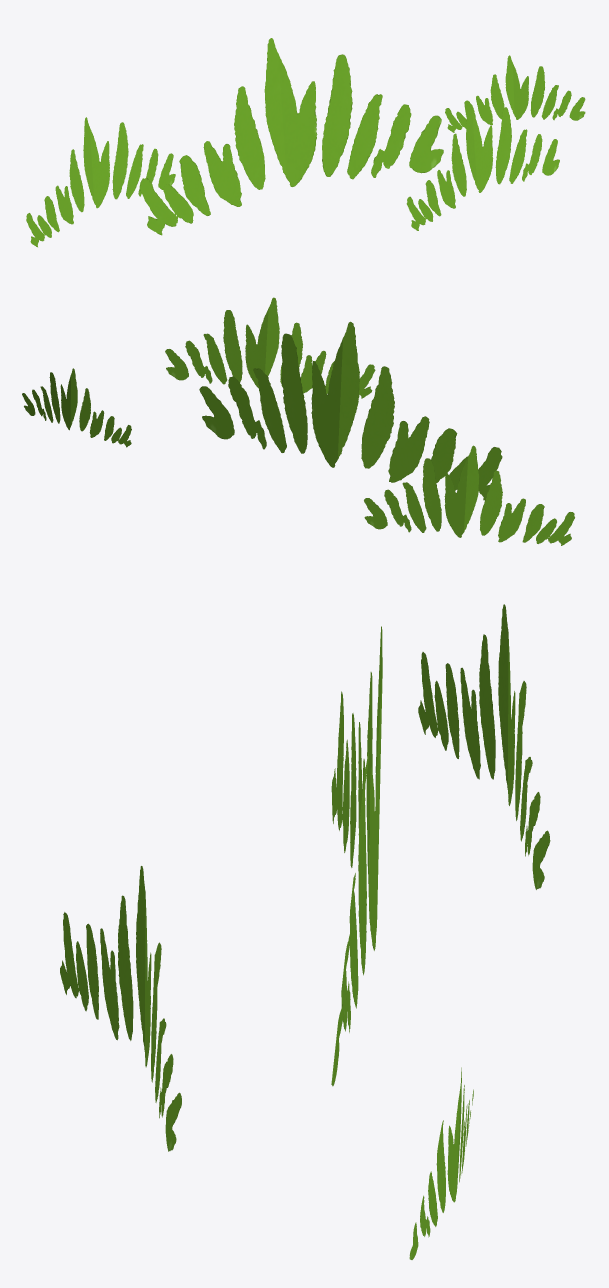
File: V2_Grass.fbx
3 views of the same model, one above another, from view 1: azimuth 30°, elevation 25°; view 2: azimuth 150°, elevation 25°; view 3: azimuth 270°, elevation 25° (orthographic). The views are drawn at different scales.
Parts seen in each view (by area): view 1: Plane.039; view 2: Plane.039; view 3: Plane.039.
Boxes of the visible parts, x1,y1,x2,y2 form: Plane.039: (26,38,585,247); Plane.039: (22,297,574,545); Plane.039: (60,604,550,1259).
Bounding box in the file's own units: 772 × 242 × 295.
1 material, 1 textured.
